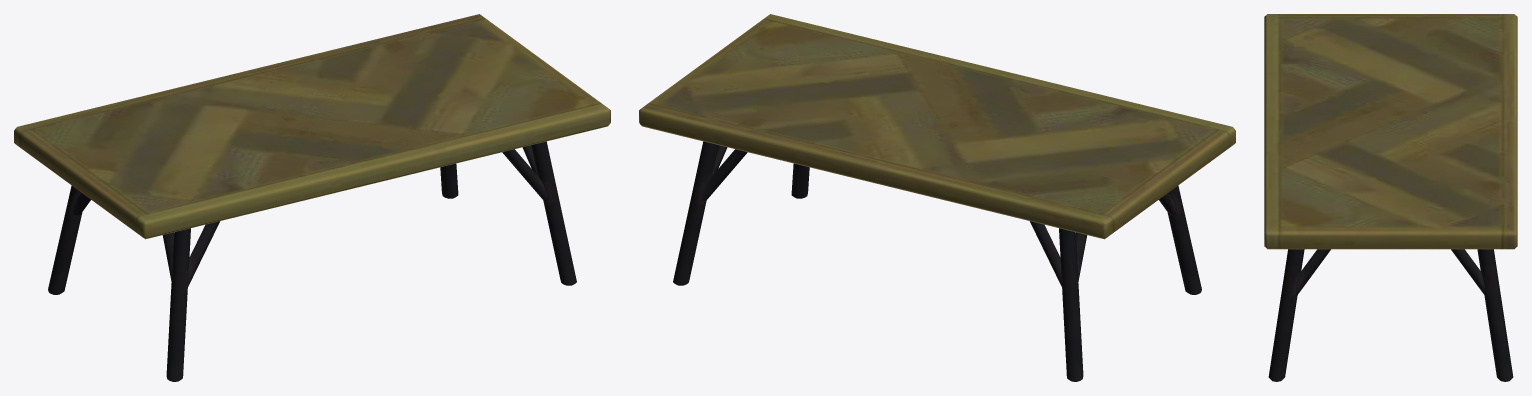
3 views of the same model, side by side, from view 1: azimuth 30°, elevation 25°; view 2: azimuth 150°, elevation 25°; view 3: azimuth 270°, elevation 25° (orthographic). The views are drawn at different scales.
Size of the model in its own units: 15.8 by 5.5 by 7.69.
Materials: 1 (1 with a texture image).
